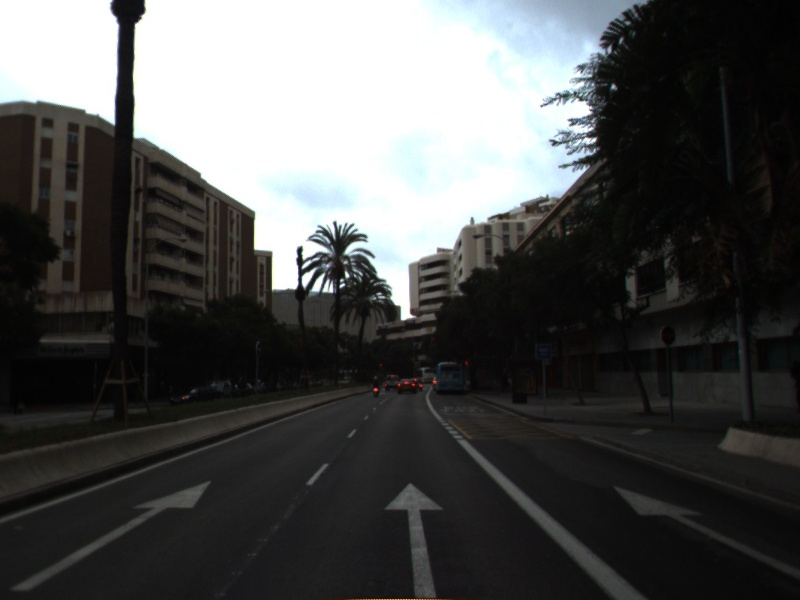STRAIGHT: (6, 477, 215, 594), (610, 482, 800, 582), (380, 479, 448, 600)
